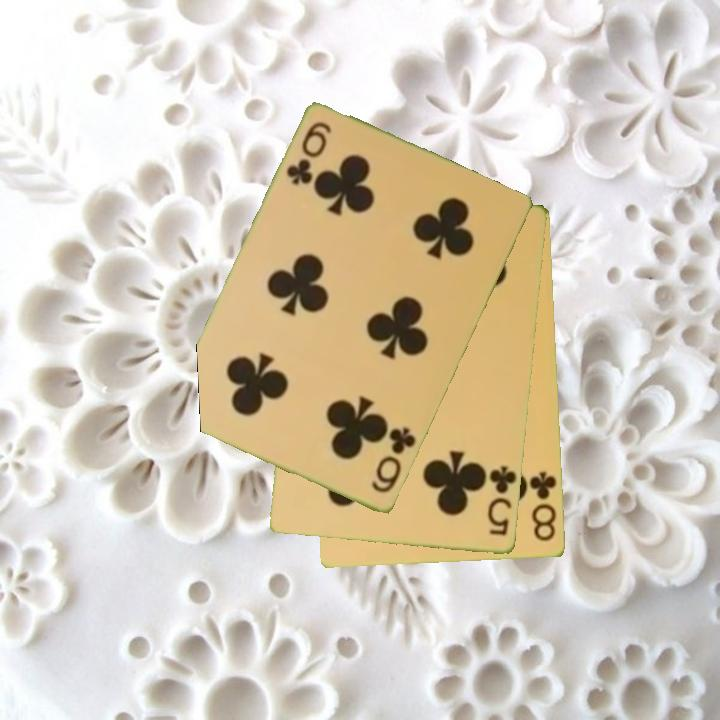5c: (484, 462, 519, 539)
6c: (282, 119, 335, 189), (368, 425, 419, 497)
8c: (526, 468, 560, 544)
